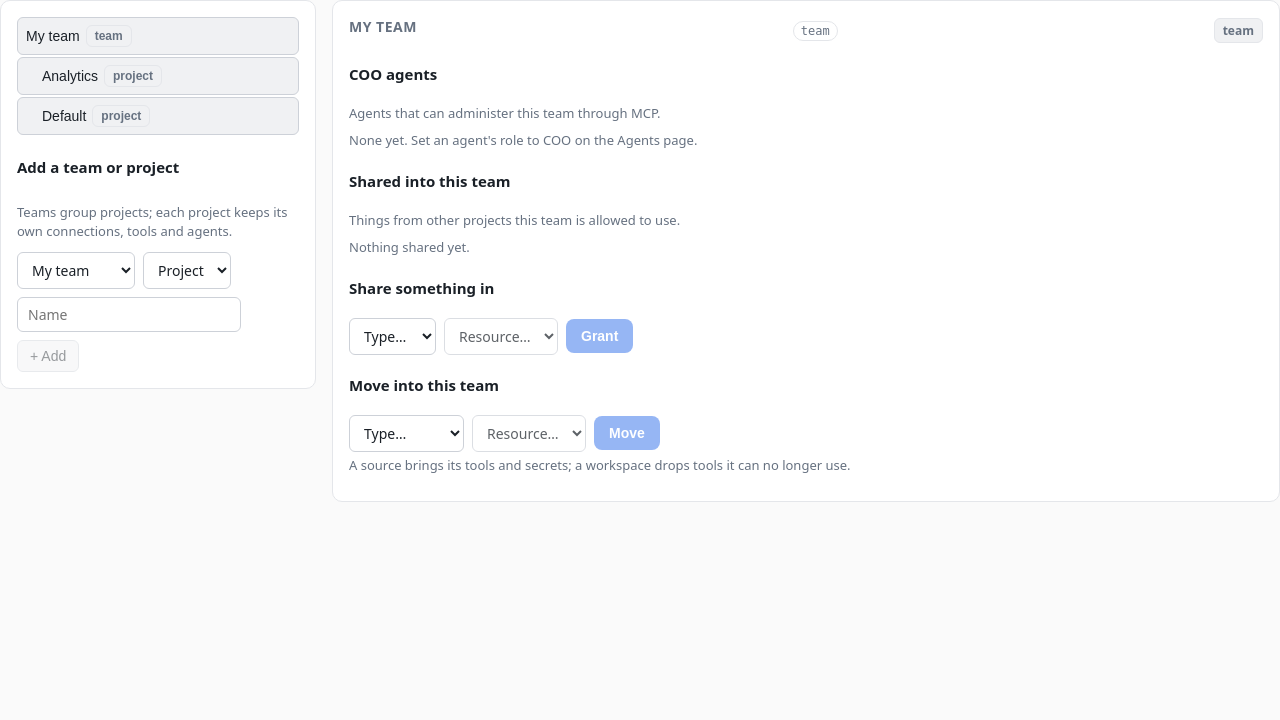
Test case: selecting a node shows its summary counts and COO agents
Click the button "Analytics project". click: (158, 76)
box: [17,57,299,95]
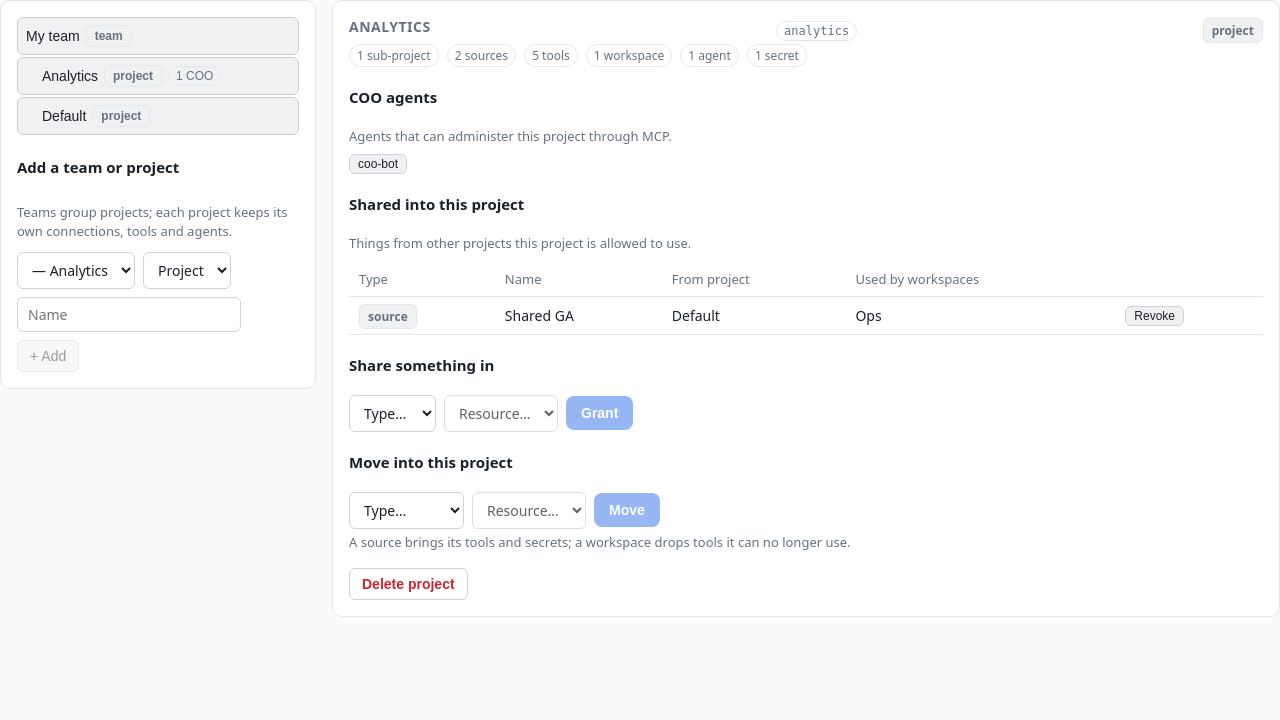
Expected: the text "Shared GA" is shown, [495,296,662,334]
Expected: the text "5 tools" is shown, [524,44,578,67]
Expected: the text "1 workspace" is shown, [586,44,672,67]
